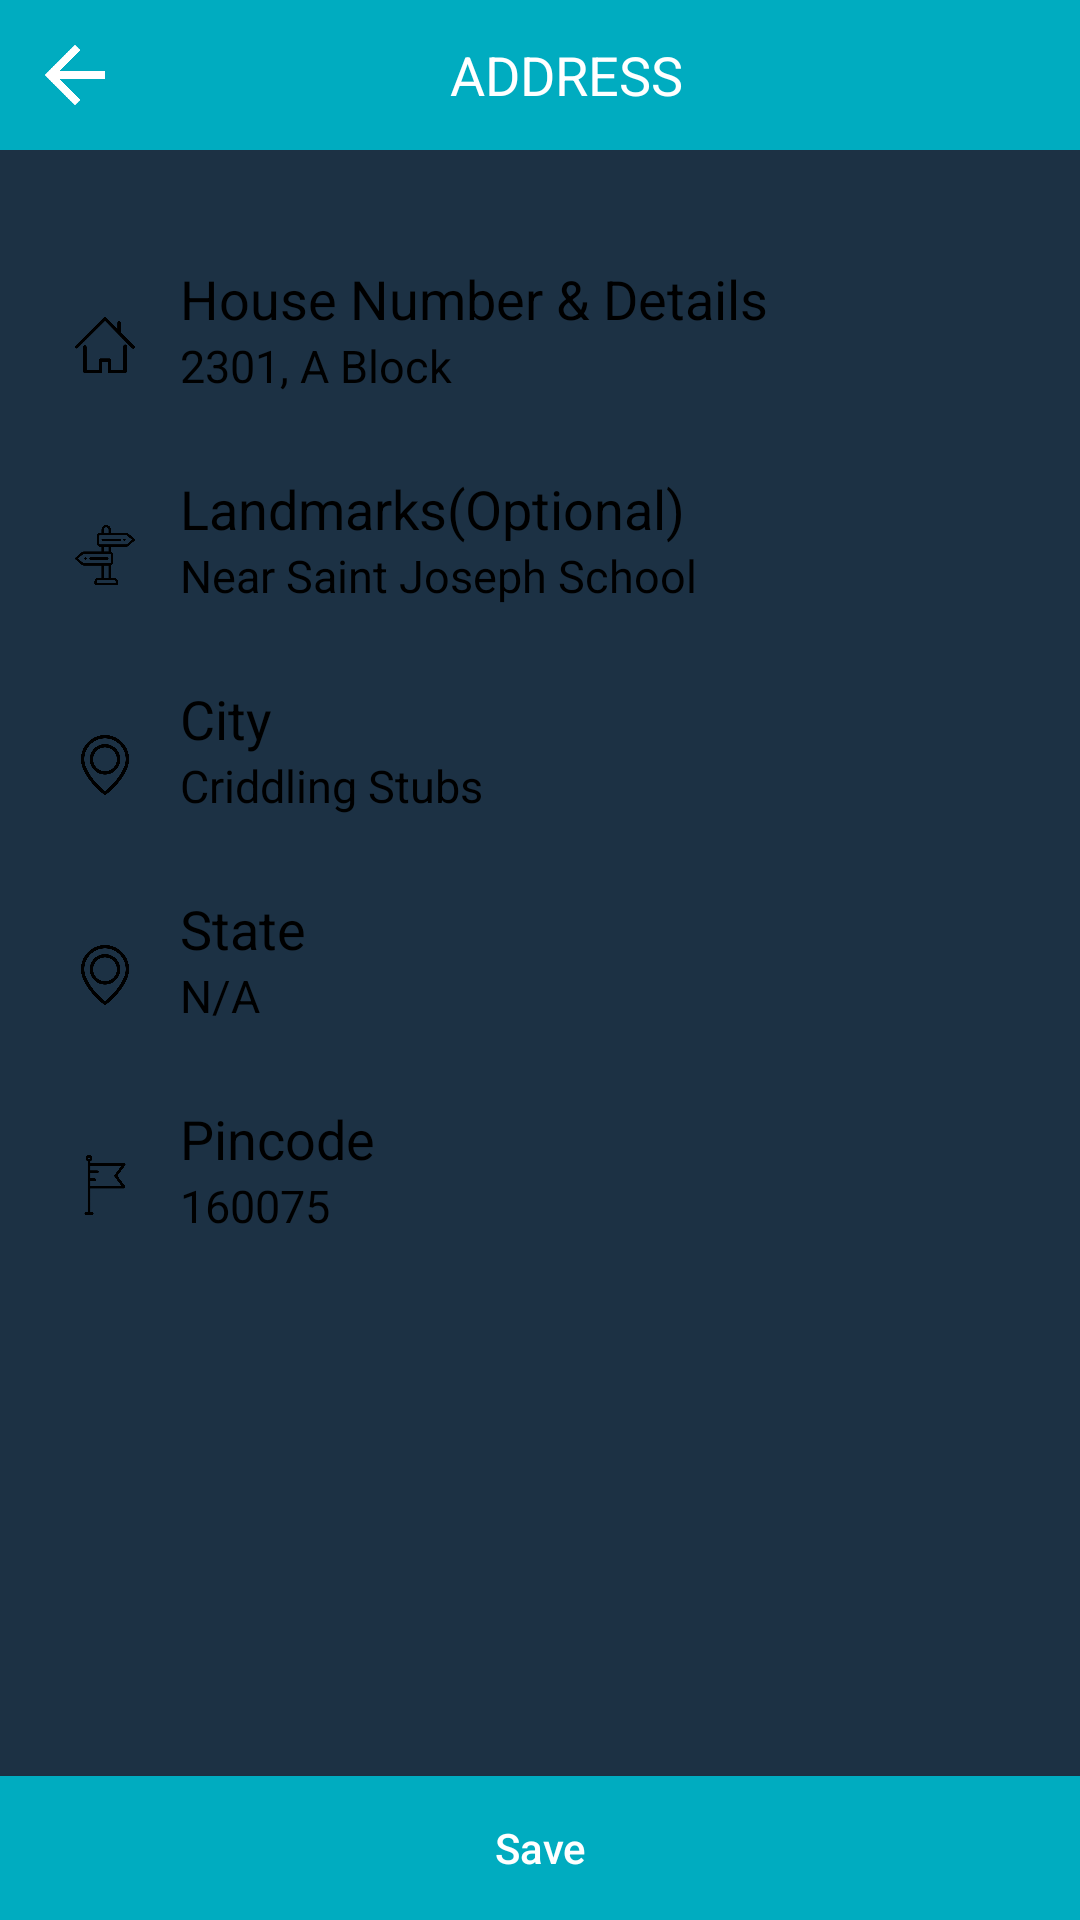

Icons on this 1080×1920 Android screen, each with its box as BBox(x1, y1, x2, y2):
flag: BBox(84, 1155, 126, 1215)
home address: BBox(75, 317, 135, 373)
landmarks: BBox(75, 525, 135, 585)
leftarrow: BBox(45, 45, 105, 105)
location: BBox(81, 735, 129, 795), BBox(81, 945, 129, 1005)
